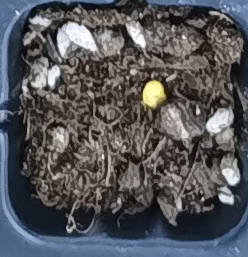chilli seed: (142, 80, 165, 106)
